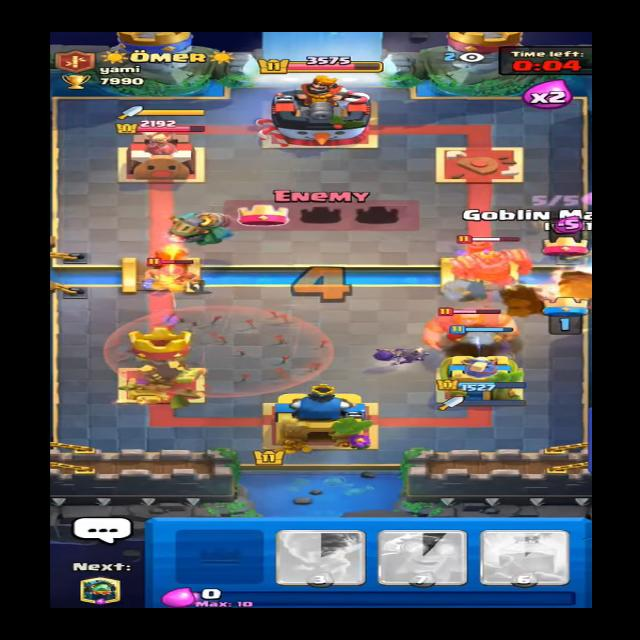arrows: (99, 306, 332, 396)
fisherman: (139, 250, 210, 293)
giant: (416, 301, 530, 352)
goblin-machine: (438, 236, 545, 287)
